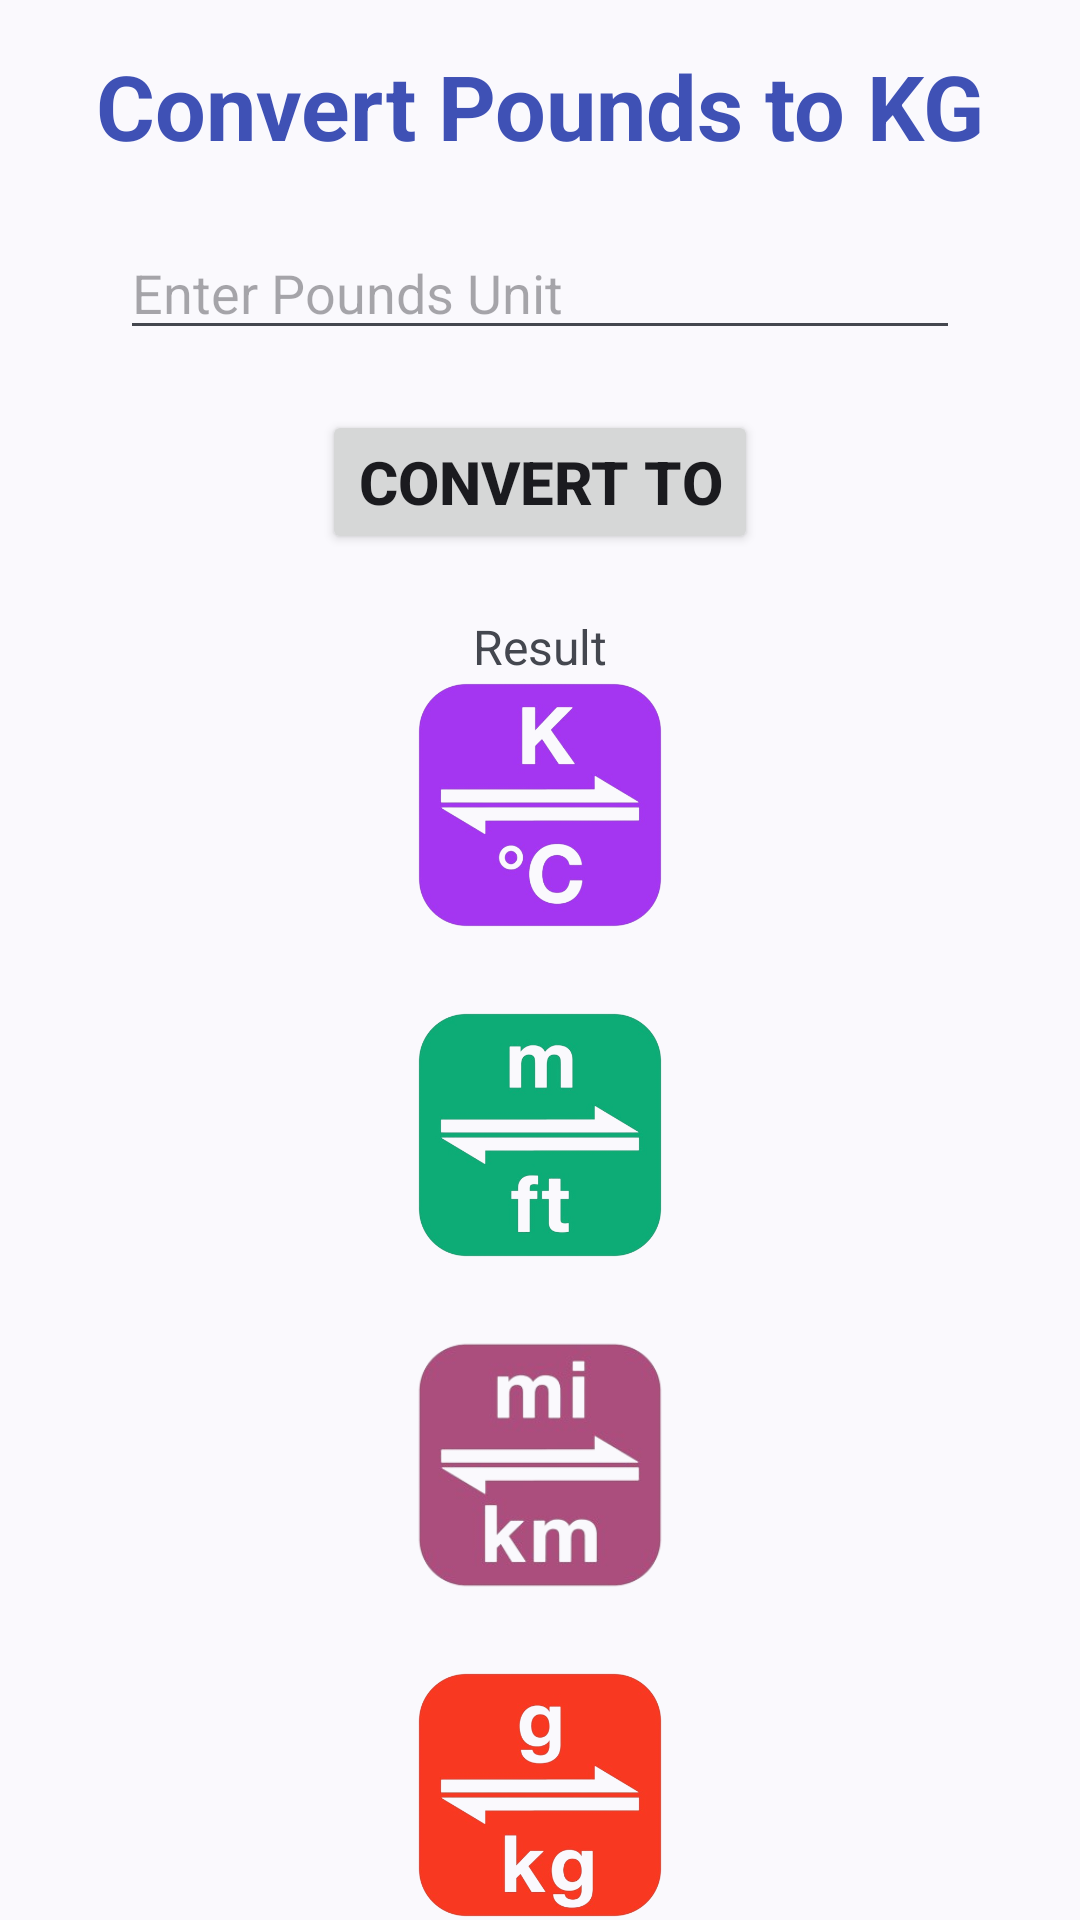

Screen size 1080 x 1920. Icon name, then its center in pixels as [x,y]:
cel to kel: [540,805]
meter to feet: [540,1135]
miter to kilo: [540,1465]
to kg: [540,1795]
